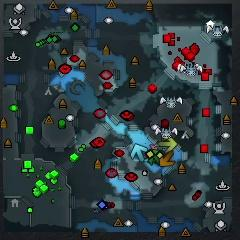x1: (150, 143, 158, 150)
x2: (158, 137, 177, 152)
x3: (131, 143, 147, 162)
x4: (149, 149, 159, 165)
x5: (160, 150, 175, 167)
